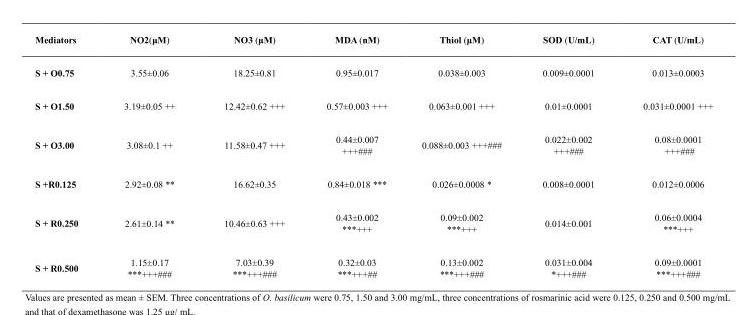table: (35, 33, 713, 278)
table column: (404, 33, 522, 278), (199, 33, 306, 278), (101, 33, 199, 278), (306, 33, 404, 278), (522, 33, 619, 278), (619, 33, 713, 278), (35, 33, 101, 278)
table column header: (35, 33, 713, 55)
table row: (35, 122, 713, 167), (35, 200, 713, 245), (35, 88, 713, 122), (35, 55, 713, 88), (35, 167, 713, 200), (35, 245, 713, 278), (35, 33, 713, 55)
